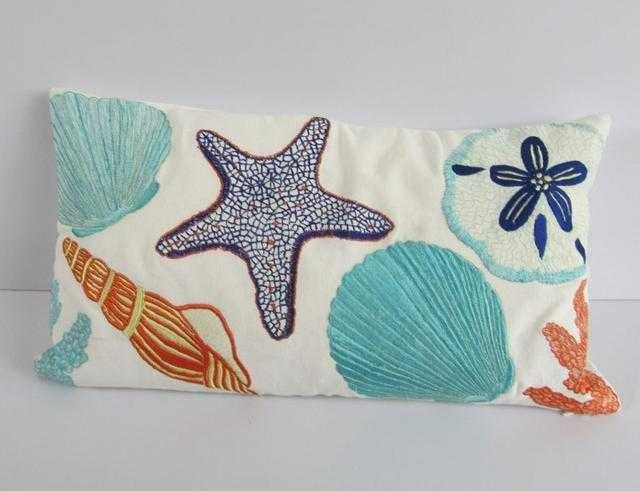pillow: (34, 86, 622, 414)
